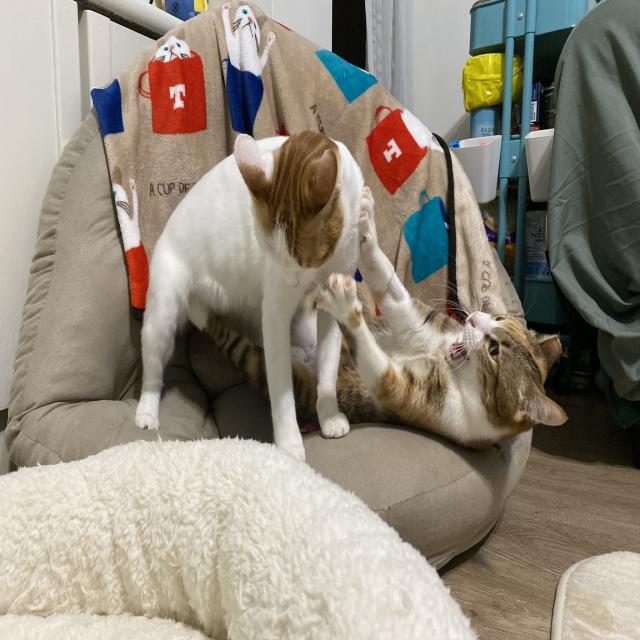cat1: (139, 122, 364, 478)
cat2: (308, 271, 570, 438)
